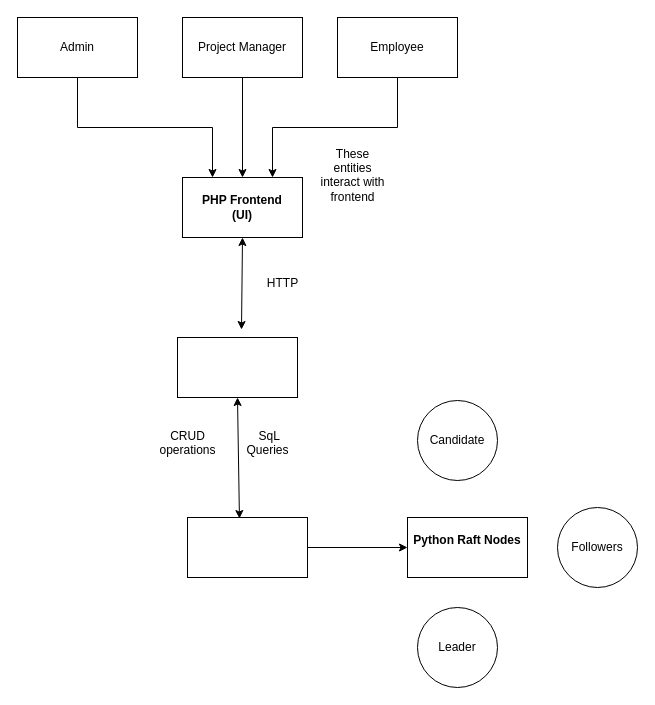
Image size: 655x705. Some labels were removed from this diagram. Each missing label, with the box of its shape:
MySQL Database: (186, 516, 308, 578)
PHP Backend: (176, 336, 298, 398)
